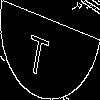T: (25, 25, 51, 78)
